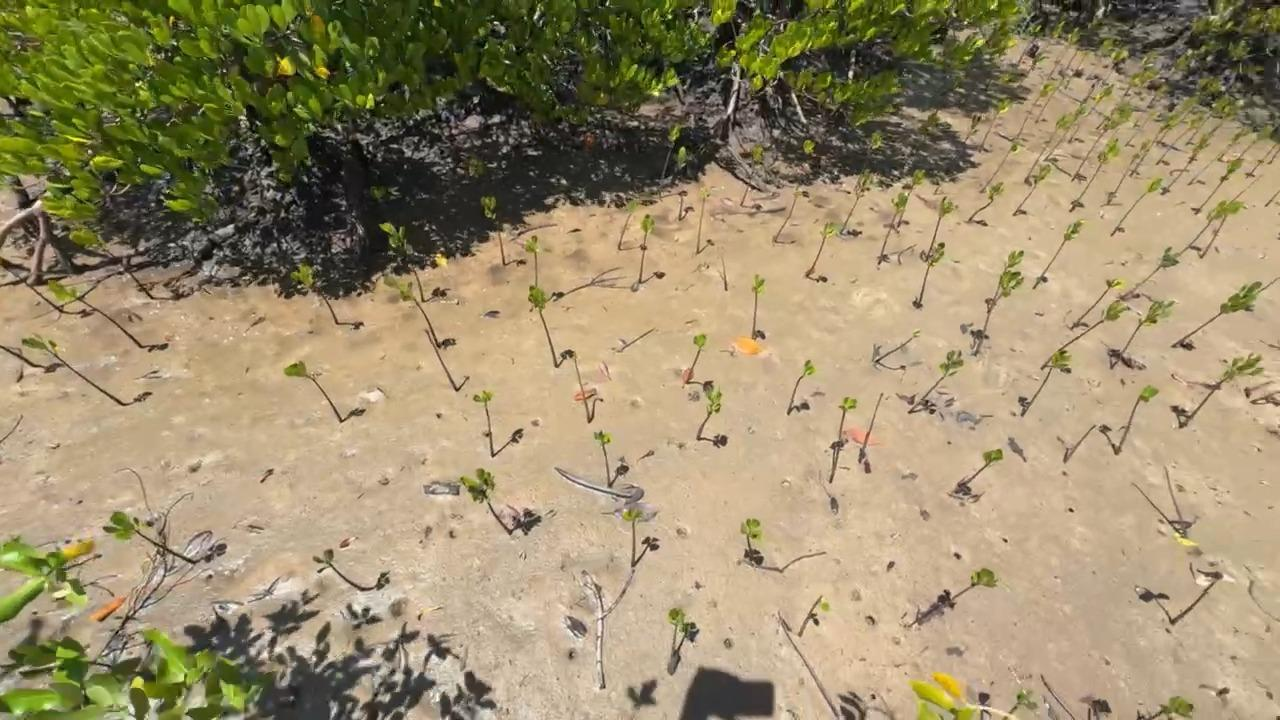Tree: (21, 337, 128, 406), (1179, 351, 1264, 430), (46, 279, 141, 348), (1169, 281, 1263, 348), (67, 229, 154, 300), (1129, 96, 1199, 177), (908, 567, 999, 629), (973, 250, 1024, 357), (1070, 98, 1134, 182), (102, 511, 197, 564), (1110, 301, 1177, 370), (383, 275, 441, 349), (1156, 78, 1220, 145), (1186, 125, 1251, 186), (1032, 219, 1087, 290), (1022, 112, 1076, 184), (1069, 136, 1119, 212), (1095, 70, 1159, 129), (379, 221, 425, 302), (284, 361, 344, 423), (907, 349, 964, 414), (1019, 349, 1072, 418), (460, 468, 513, 536), (1109, 177, 1164, 238), (1120, 246, 1180, 301), (1114, 386, 1161, 456), (1160, 134, 1212, 196), (290, 263, 340, 325), (1177, 200, 1231, 257), (1170, 569, 1224, 625), (1106, 138, 1151, 205), (1070, 278, 1126, 331), (1041, 103, 1091, 162), (1067, 83, 1115, 144), (1193, 159, 1244, 215), (1154, 111, 1206, 165), (1199, 200, 1245, 260), (978, 137, 1024, 194), (528, 284, 559, 368), (877, 191, 909, 272), (829, 396, 857, 484), (1015, 81, 1056, 140), (1184, 96, 1231, 146), (423, 328, 459, 392), (924, 196, 958, 263), (839, 169, 874, 234), (953, 449, 1003, 494), (312, 548, 362, 591), (1012, 162, 1051, 217), (895, 169, 926, 234), (916, 242, 946, 309), (1047, 27, 1082, 81), (1164, 465, 1189, 539), (858, 393, 884, 464), (657, 122, 680, 202), (480, 196, 506, 265), (804, 222, 836, 278), (1131, 85, 1172, 128), (786, 359, 817, 415), (979, 98, 1011, 151), (740, 142, 765, 207), (1034, 74, 1067, 123), (874, 329, 921, 363), (473, 389, 496, 458), (695, 385, 722, 442), (773, 190, 801, 243), (967, 182, 1004, 222), (798, 595, 830, 639), (1123, 109, 1159, 147), (1063, 424, 1097, 464), (573, 350, 592, 420), (1014, 50, 1049, 88), (622, 507, 644, 567), (1235, 125, 1272, 160), (638, 214, 655, 284), (1037, 15, 1066, 56), (1085, 39, 1114, 80), (1227, 174, 1264, 205), (684, 333, 706, 385), (1017, 24, 1043, 67), (1002, 689, 1038, 720), (1100, 49, 1129, 87), (794, 140, 815, 192), (1248, 141, 1280, 175), (741, 517, 762, 568), (594, 429, 612, 487), (618, 199, 638, 251), (1207, 105, 1240, 136), (751, 273, 766, 341), (696, 187, 711, 254), (861, 129, 882, 175), (668, 608, 687, 658), (1160, 694, 1196, 720), (0, 345, 37, 367), (524, 234, 539, 288), (1077, 75, 1098, 108), (677, 146, 686, 220), (962, 113, 983, 144), (1065, 39, 1082, 71), (1257, 276, 1280, 294), (1139, 50, 1157, 72), (720, 254, 729, 291), (1264, 190, 1280, 207), (1267, 147, 1280, 166)
